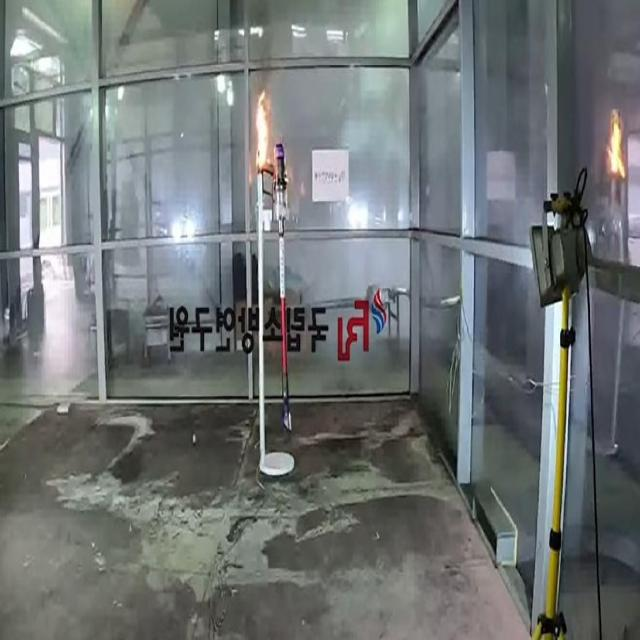fire: (235, 68, 279, 198), (595, 95, 630, 199)
